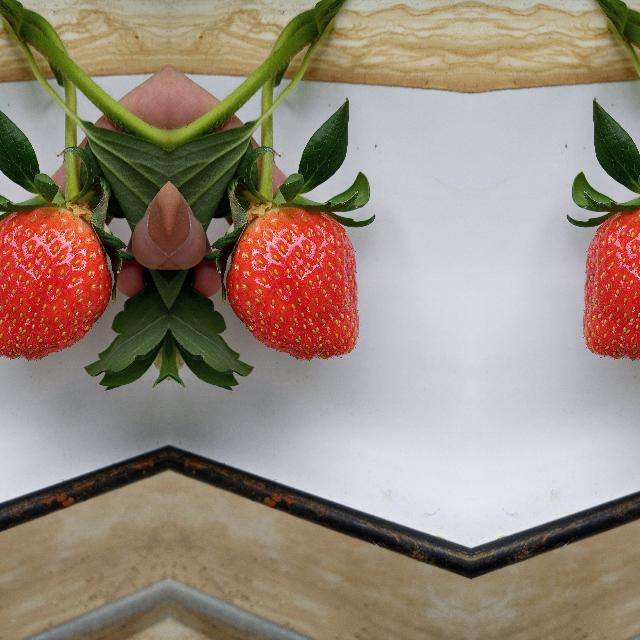Health_100: (224, 206, 360, 362), (0, 206, 111, 361), (581, 206, 640, 361)
